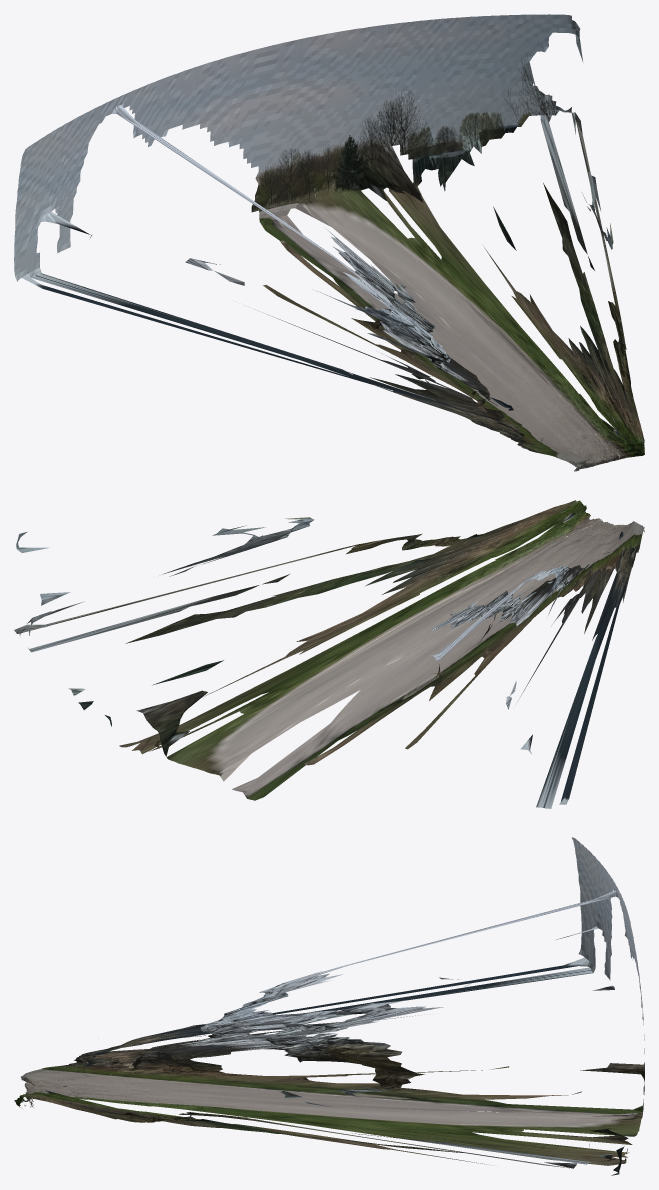
The picture shows the model from 3 angles, top to bottom: view 1: azimuth 30°, elevation 25°; view 2: azimuth 150°, elevation 25°; view 3: azimuth 270°, elevation 25°; orthographic projection. The views are drawn at different scales.
Visible parts, largest first — view 1: defaultobject; view 2: defaultobject; view 3: defaultobject.
Boxes of the visible parts, bbox=[...] form: defaultobject: bbox=[14, 14, 644, 471]; defaultobject: bbox=[14, 500, 644, 808]; defaultobject: bbox=[14, 837, 644, 1175].
Bounding box in the file's own units: 40.75 × 12.86 × 44.8.
1 material, 1 textured.
